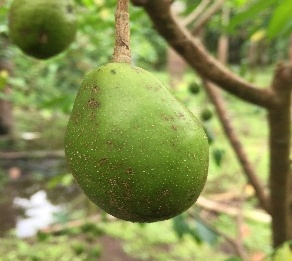Coc: (67, 64, 210, 230)
